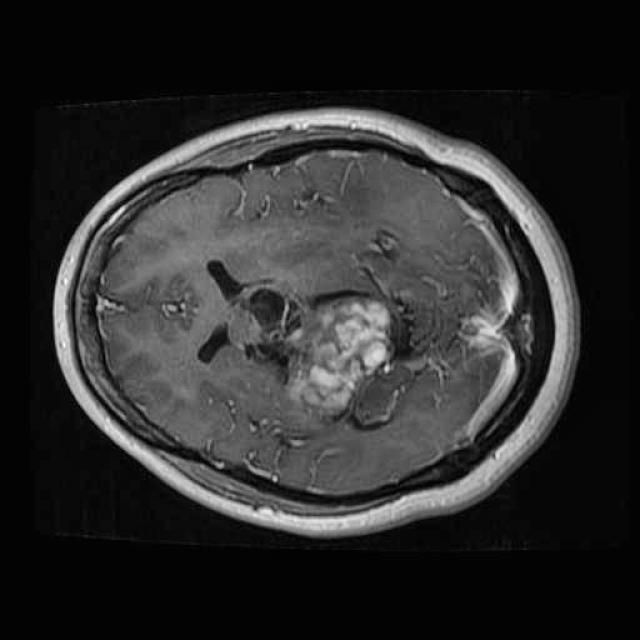Tumor: (272, 280, 402, 440)
